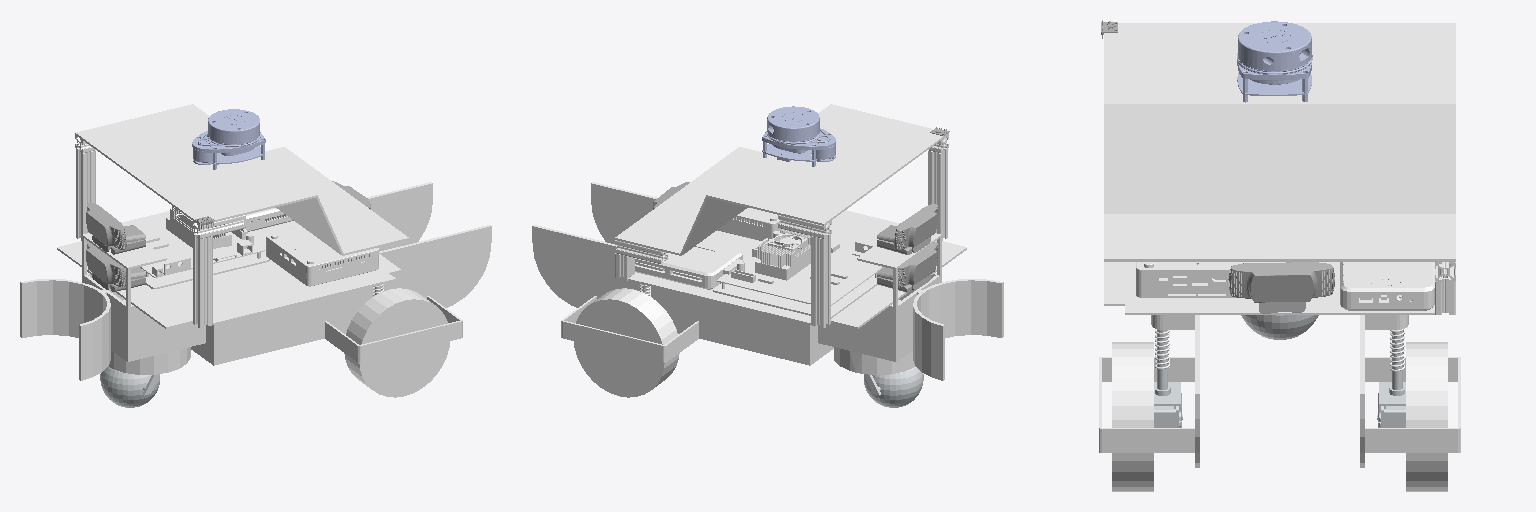
--- Facts derived from the render (not from the file) ---
The picture shows the robot from 3 angles, left to right: view 1: azimuth 30°, elevation 25°; view 2: azimuth 150°, elevation 25°; view 3: azimuth 270°, elevation 25°; orthographic projection.
Model cheetos with 17 links and 16 joints (3 continuous, 4 prismatic, 9 fixed), rooted at dummy, posed all joints at 0.
Links seen in each view (by area): view 1: body, RightWheel, Lidar, CamRear_Up, Sphere, CamRear; view 2: body, LeftWheel, Lidar, CamRear_Up, Sphere, CamRear; view 3: body, Lidar, LeftWheel, RightWheel, CamLow, Sphere, LeftMotor, RightMotor.
Boxes of the visible links, box(x1,y1,x2,y2) form: body: box(20, 104, 491, 380); RightWheel: box(344, 288, 449, 397); Lidar: box(192, 109, 265, 169); CamRear_Up: box(86, 203, 145, 254); Sphere: box(100, 366, 159, 407); CamRear: box(86, 241, 145, 291); body: box(532, 104, 1003, 380); LeftWheel: box(574, 288, 679, 397); Lidar: box(762, 106, 835, 166); CamRear_Up: box(877, 204, 937, 254); Sphere: box(864, 367, 923, 407); CamRear: box(877, 242, 937, 292); body: box(1099, 23, 1460, 467); Lidar: box(1237, 21, 1312, 102); LeftWheel: box(1406, 342, 1447, 491); RightWheel: box(1112, 342, 1153, 491); CamLow: box(1228, 262, 1334, 313); Sphere: box(1241, 315, 1318, 339); LeftMotor: box(1377, 382, 1405, 427); RightMotor: box(1154, 382, 1182, 427).
Size in the robot's own frame: 0.628 by 0.34 by 0.3825 metres.
Meshes: 13 distinct files referenced, 12 mesh visuals loaded (12 binary STL); not drawn: 1 (reference not matched to a file when rendering).

The robot description file, URDF, robot "cheetos":
<?xml version="1.0" encoding="utf-8"?>
<!-- This URDF was automatically created by SolidWorks to URDF Exporter! Originally created by Stephen Brawner ([email redacted])
     Commit Version: 1.5.1-0-g916b5db  Build Version: 1.5.7152.31018
     For more information, please see http://wiki.ros.org/sw_urdf_exporter -->
<robot
  name="cheetos">
  <link
    name="body">
    <inertial>
      <origin
        xyz="-0.131665588733977 0.00265396784555805 0.166170951769268"
        rpy="0 0 0" />
      <mass
        value="2.3" />
      <inertia
        ixx="0.0159559051940881"
        ixy="-7.18469676817871E-07"
        ixz="0.00189725904228338"
        iyy="0.0429827313478047"
        iyz="-5.74968905705857E-08"
        izz="0.0546231565087513" />
    </inertial>
    <visual>
      <origin
        xyz="0 0 0"
        rpy="0 0 0" />
      <geometry>
        <mesh
          filename="package://cheetos_description/meshes/body.STL" />
      </geometry>
      <material
        name="">
        <color
          rgba="1 1 1 1" />
      </material>
    </visual>
    <collision>
      <origin
        xyz="0 0 0"
        rpy="0 0 0" />
      <geometry>
        <mesh
          filename="package://cheetos_description/meshes/body.STL" />
      </geometry>
    </collision>
  </link>
<link name="dummy"/>

  <joint name="base_joint" type="fixed">
    <parent link="dummy"/>
    <child link="body" />
  </joint>
  <link
    name="LeftSuspension">
    <inertial>
      <origin
        xyz="0.0012247 -4.7186E-05 -0.0072077"
        rpy="0 0 0" />
      <mass
        value="0.55433" />
      <inertia
        ixx="8.6239E-05"
        ixy="-1.5645E-06"
        ixz="2.9641E-08"
        iyy="0.00012163"
        iyz="-1.6485E-07"
        izz="0.00015669" />
    </inertial>
    <visual>
      <origin
        xyz="0 0 0"
        rpy="0 0 0" />
      <geometry>
        <mesh
          filename="package://cheetos_description/meshes/LeftSuspension.STL" />
      </geometry>
      <material
        name="">
        <color
          rgba="0.89804 0.91765 0.92941 1" />
      </material>
    </visual>
    <collision>
      <origin
        xyz="0 0 0"
        rpy="0 0 0" />
      <geometry>
        <mesh
          filename="package://cheetos_description/meshes/LeftSuspension.STL" />
      </geometry>
    </collision>
  </link>
  <joint
    name="LeftSuspension"
    type="prismatic">
    <origin
      xyz="0.0219999999999989 0.110000000000005 0.09029"
      rpy="0 0 0" />
    <parent
      link="body" />
    <child
      link="LeftSuspension" />
    <axis
      xyz="0 0 1" />
    <limit
      lower="-0.02"
      upper="0"
      effort="100"
      velocity="0.01" />
  </joint>
  <link
    name="LeftMotor">
    <inertial>
      <origin
        xyz="0.0012247 -4.7186E-05 -0.0072077"
        rpy="0 0 0" />
      <mass
        value="0.55433" />
      <inertia
        ixx="8.6239E-05"
        ixy="-1.5645E-06"
        ixz="2.9641E-08"
        iyy="0.00012163"
        iyz="-1.6485E-07"
        izz="0.00015669" />
    </inertial>
    <visual>
      <origin
        xyz="0 0 0"
        rpy="0 0 0" />
      <geometry>
        <mesh
          filename="package://cheetos_description/meshes/LeftMotor.STL" />
      </geometry>
      <material
        name="">
        <color
          rgba="0.89804 0.91765 0.92941 1" />
      </material>
    </visual>
    <collision>
      <origin
        xyz="0 0 0"
        rpy="0 0 0" />
      <geometry>
        <mesh
          filename="package://cheetos_description/meshes/LeftMotor.STL" />
      </geometry>
    </collision>
  </link>
  <joint
    name="LeftMotor"
    type="fixed">
    <origin
      xyz="0 0 -0.0245"
      rpy="0 0 0" />
    <parent
      link="LeftSuspension" />
    <child
      link="LeftMotor" />
    <axis
      xyz="0 0 0" />
  </joint>
  <link
    name="LeftWheel">
    <inertial>
      <origin
        xyz="-8.3267E-17 -2.9698E-15 3.4694E-18"
        rpy="0 0 0" />
      <mass
        value="0.39667" />
      <inertia
        ixx="0.00059162"
        ixy="8.7084E-22"
        ixz="-2.3396E-36"
        iyy="0.0011235"
        iyz="3.3722E-36"
        izz="0.00059162" />
    </inertial>
    <visual>
      <origin
        xyz="0 0 0"
        rpy="1.5708 0 0" />
      <geometry>
               <cylinder length="0.04" radius="0.07"/>
      </geometry>
      <material
        name="">
        <color
          rgba="1 1 1 1" />
      </material>
    </visual>
    <collision>
      <origin
        xyz="0 0 0"
        rpy="1.5708 0 0" />
      <geometry>
        <cylinder length="0.04" radius="0.07"/>
      </geometry>
    </collision>
  </link>
  <joint
    name="LeftWheel"
    type="continuous">
    <origin
      xyz="0.013 0.02775 -0.011787"
      rpy="0 0 0" />
    <parent
      link="LeftMotor" />
    <child
      link="LeftWheel" />
    <axis
      xyz="0 1 0" />
    <limit
      effort="3.1"
      velocity="7" />
  </joint>
  <link
    name="RightSuspension">
    <inertial>
      <origin
        xyz="0.0012247 4.7186E-05 -0.0072492"
        rpy="0 0 0" />
      <mass
        value="0.55433" />
      <inertia
        ixx="8.6239E-05"
        ixy="1.5645E-06"
        ixz="-2.9641E-08"
        iyy="0.00012163"
        iyz="-1.6485E-07"
        izz="0.00015669" />
    </inertial>
    <visual>
      <origin
        xyz="0 0 0"
        rpy="0 0 0" />
      <geometry>
        <mesh
          filename="package://cheetos_description/meshes/RightSuspension.STL" />
      </geometry>
      <material
        name="">
        <color
          rgba="0.89804 0.91765 0.92941 1" />
      </material>
    </visual>
    <collision>
      <origin
        xyz="0 0 0"
        rpy="0 0 0" />
      <geometry>
        <mesh
          filename="package://cheetos_description/meshes/RightSuspension.STL" />
      </geometry>
    </collision>
  </link>
  <joint
    name="RightSuspension"
    type="prismatic">
    <origin
      xyz="0.022 -0.11 0.09029"
      rpy="0 0 0" />
    <parent
      link="body" />
    <child
      link="RightSuspension" />
    <axis
      xyz="0 0 1" />
    <limit
      lower="-0.02"
      upper="0"
      effort="100"
      velocity="0.01" />
  </joint>
  <link
    name="RightMotor">
    <inertial>
      <origin
        xyz="0.0012247 4.7186E-05 -0.0072492"
        rpy="0 0 0" />
      <mass
        value="0.55433" />
      <inertia
        ixx="8.6239E-05"
        ixy="1.5645E-06"
        ixz="-2.9641E-08"
        iyy="0.00012163"
        iyz="-1.6485E-07"
        izz="0.00015669" />
    </inertial>
    <visual>
      <origin
        xyz="0 0 0"
        rpy="0 0 0" />
      <geometry>
        <mesh
          filename="package://cheetos_description/meshes/RightMotor.STL" />
      </geometry>
      <material
        name="">
        <color
          rgba="0.89804 0.91765 0.92941 1" />
      </material>
    </visual>
    <collision>
      <origin
        xyz="0 0 0"
        rpy="0 0 0" />
      <geometry>
        <mesh
          filename="package://cheetos_description/meshes/RightMotor.STL" />
      </geometry>
    </collision>
  </link>
  <joint
    name="RightMotor"
    type="fixed">
    <origin
      xyz="0 0 -0.0245"
      rpy="0 0 0" />
    <parent
      link="RightSuspension" />
    <child
      link="RightMotor" />
    <axis
      xyz="0 0 0" />
  </joint>
  <link
    name="RightWheel">
    <inertial>
      <origin
        xyz="-1.3878E-16 -2.8311E-15 3.4694E-18"
        rpy="0 0 0" />
      <mass
        value="0.39667" />
      <inertia
        ixx="0.00059162"
        ixy="-1.8658E-18"
        ixz="-8.9798E-20"
        iyy="0.0011235"
        iyz="-4.1551E-21"
        izz="0.00059162" />
    </inertial>
    <visual>
      <origin
        xyz="0 0 0"
        rpy="1.5708 0 0" />
      <geometry>
               <cylinder length="0.04" radius="0.07"/>
      </geometry>
      <material
        name="">
        <color
          rgba="1 1 1 1" />
      </material>
    </visual>
    <collision>
      <origin
        xyz="0 0 0"
        rpy="1.5708 0 0" />
      <geometry>
        <cylinder length="0.04" radius="0.07"/>
      </geometry>
    </collision>
  </link>
  <joint
    name="RightWheel"
    type="continuous">
    <origin
      xyz="0.0129999999999996 -0.0277499999999998 -0.0117849999999997"
      rpy="0 0 0" />
    <parent
      link="RightMotor" />
    <child
      link="RightWheel" />
    <axis
      xyz="0 1 0" />
    <limit
      effort="3.1"
      velocity="7" />
  </joint>
  <link
    name="RearSuspension">
    <inertial>
      <origin
        xyz="-0.010041 6.4226E-18 -0.02367"
        rpy="0 0 0" />
      <mass
        value="0.34774" />
      <inertia
        ixx="0.00056998"
        ixy="5.7272E-20"
        ixz="-6.9341E-05"
        iyy="0.0001687"
        iyz="-1.1998E-19"
        izz="0.00048148" />
    </inertial>
    <visual>
      <origin
        xyz="0 0 0"
        rpy="0 0 0" />
      <geometry>
        <mesh
          filename="package://cheetos_description/meshes/RearSuspension.STL" />
      </geometry>
      <material
        name="">
        <color
          rgba="0.89804 0.91765 0.92941 1" />
      </material>
    </visual>
    <collision>
      <origin
        xyz="0 0 0"
        rpy="0 0 0" />
      <geometry>
        <mesh
          filename="package://cheetos_description/meshes/RearSuspension.STL" />
      </geometry>
    </collision>
  </link>
  <joint
    name="RearSuspension"
    type="prismatic">
    <origin
      xyz="-0.27 0 0.08"
      rpy="0 0 0" />
    <parent
      link="body" />
    <child
      link="RearSuspension" />
    <axis
      xyz="0 0 1" />
    <limit
      lower="-0.04"
      upper="0"
      effort="100"
      velocity="0.01" />
  </joint>
  <link
    name="CasterJoint">
    <inertial>
      <origin
        xyz="-0.010041 6.4226E-18 -0.02367"
        rpy="0 0 0" />
      <mass
        value="0.34774" />
      <inertia
        ixx="0.00056998"
        ixy="5.7272E-20"
        ixz="-6.9341E-05"
        iyy="0.0001687"
        iyz="-1.1998E-19"
        izz="0.00048148" />
    </inertial>
    <visual>
      <origin
        xyz="0 0 0"
        rpy="0 0 0" />
      <geometry>
        <mesh
          filename="package://cheetos_description/meshes/CasterJoint.STL" />
      </geometry>
      <material
        name="">
        <color
          rgba="0.89804 0.91765 0.92941 1" />
      </material>
    </visual>
    <collision>
      <origin
        xyz="0 0 0"
        rpy="0 0 0" />
      <geometry>
        <mesh
          filename="package://cheetos_description/meshes/CasterJoint.STL" />
      </geometry>
    </collision>
  </link>
  <joint
    name="CasterJoint"
    type="prismatic">
    <origin
      xyz="0 0 -0.0075"
      rpy="0 0 0" />
    <parent
      link="RearSuspension" />
    <child
      link="CasterJoint" />
    <axis
      xyz="0 0 1" />
    <limit
      lower="-0.04"
      upper="0"
      effort="1000"
      velocity="1000" />
  </joint>
  <link
    name="Sphere">
    <inertial>
      <origin
        xyz="0 -2.4931E-20 6.9389E-18"
        rpy="0 0 0" />
      <mass
        value="0.358335" />
      <inertia
        ixx="0.00045942"
        ixy="1.0361E-38"
        ixz="-2.8818E-40"
        iyy="0.00046321"
        iyz="0"
        izz="0.00045942" />
    </inertial>
    <visual>
      <origin
        xyz="0 0 0"
        rpy="0 0 0" />
      <geometry>
        <sphere radius="0.04"/>
      </geometry>
      <material
        name="">
        <color
          rgba="0.89804 0.91765 0.92941 1" />
      </material>
    </visual>
    <collision>
      <origin
        xyz="0 0 0"
        rpy="0 0 0" />
      <geometry>
          <sphere radius="0.04"/>
      </geometry>
    </collision>
  </link>
  <joint
    name="Sphere"
    type="continuous">
    <origin
      xyz="-0.02372975512794 0 -0.0485"
      rpy="0 0 0" />
    <parent
      link="CasterJoint" />
    <child
      link="Sphere" />
    <axis
      xyz="0 1 0" />
  </joint>
  <link
    name="Lidar">
    <inertial>
      <origin
        xyz="-0.0106584194573059 0.00149536433385656 -0.0184322088779122"
        rpy="0 0 0" />
      <mass
        value="0.0730845804596596" />
      <inertia
        ixx="1.95855192972885E-05"
        ixy="-1.78553755169841E-07"
        ixz="4.28488283975004E-07"
        iyy="2.41203647877997E-05"
        iyz="-2.38491004481269E-09"
        izz="4.1418451413048E-05" />
    </inertial>
    <visual>
      <origin
        xyz="0 0 0"
        rpy="0 0 0" />
      <geometry>
        <mesh
          filename="package://cheetos_description/meshes/Ridar.STL" />
      </geometry>
      <material
        name="">
        <color
          rgba="0.792156862745098 0.819607843137255 0.933333333333333 1" />
      </material>
    </visual>
    <collision>
      <origin
        xyz="0 0 0"
        rpy="0 0 0" />
      <geometry>
        <mesh
          filename="package://cheetos_description/meshes/Ridar.STL" />
      </geometry>
    </collision>
  </link>
  <joint
    name="Lidar"
    type="fixed">
    <origin
      xyz="-0.1392 -0.0060445 0.35617"
      rpy="0 0 0" />
    <parent
      link="body" />
    <child
      link="Lidar" />
    <axis
      xyz="0 0 0" />
  </joint>
  <link
    name="imu_link">
    <inertial>
      <origin
        xyz="-5.80684691974323E-05 -0.000929499747983537 0.000334718190330485"
        rpy="0 0 0" />
      <mass
        value="0.00100170070350826" />
      <inertia
        ixx="1.69531813597037E-08"
        ixy="-1.30603108853935E-11"
        ixz="-3.36807508028114E-18"
        iyy="3.03936181819941E-08"
        iyz="-6.24614435388015E-14"
        izz="4.63286907007238E-08" />
    </inertial>
    <visual>
      <origin
        xyz="0 0 0"
        rpy="0 0 0" />
      <geometry>
        <mesh
          filename="package://cheetos_description/meshes/imu_link.STL" />
      </geometry>
      <material
        name="">
        <color
          rgba="0.752941176470588 0.752941176470588 0.752941176470588 1" />
      </material>
    </visual>
    <collision>
      <origin
        xyz="0 0 0"
        rpy="0 0 0" />
      <geometry>
        <mesh
          filename="package://cheetos_description/meshes/imu_link.STL" />
      </geometry>
    </collision>
  </link>
  <joint
    name="IMU"
    type="fixed">
    <origin
      xyz="-0.27194 -0.15957 0.313"
      rpy="0 0 0" />
    <parent
      link="body" />
    <child
      link="imu_link" />
    <axis
      xyz="0 0 0" />
  </joint>
  <link
    name="CamUp">
    <inertial>
      <origin
        xyz="-0.0240608797344701 -0.000831103636230159 -0.0086820542686866"
        rpy="0 0 0" />
      <mass
        value="0.0814567527016656" />
      <inertia
        ixx="2.93819154283946E-05"
        ixy="5.3332956002618E-07"
        ixz="-2.59288616701654E-07"
        iyy="1.39017043298223E-05"
        iyz="-9.705250623736E-09"
        izz="3.66776098846521E-05" />
    </inertial>
    <visual>
      <origin
        xyz="0 0 0"
        rpy="0 0 0" />
      <geometry>
        <mesh
          filename="package://cheetos_description/meshes/CamUp.STL" />
      </geometry>
      <material
        name="">
        <color
          rgba="0.752941176470588 0.752941176470588 0.752941176470588 1" />
      </material>
    </visual>
    <collision>
      <origin
        xyz="0 0 0"
        rpy="0 0 0" />
      <geometry>
        <mesh
          filename="package://cheetos_description/meshes/CamUp.STL" />
      </geometry>
    </collision>
  </link>
  <joint
    name="CamUp"
    type="fixed">
    <origin
      xyz="0.056625 0.0021836 0.25151"
      rpy="0 0 0" />
    <parent
      link="body" />
    <child
      link="CamUp" />
    <axis
      xyz="0 0 0" />
  </joint>
  <link
    name="CamLow">
    <inertial>
      <origin
        xyz="-0.0240608775291059 -0.000831104433010251 -0.00868205335954153"
        rpy="0 0 0" />
      <mass
        value="0.0814567470324938" />
      <inertia
        ixx="2.9381914414346E-05"
        ixy="5.33327967811365E-07"
        ixz="-2.592877551454E-07"
        iyy="1.39017011370152E-05"
        iyz="-9.70568132352121E-09"
        izz="3.66776060324368E-05" />
    </inertial>
    <visual>
      <origin
        xyz="0 0 0"
        rpy="0 0 0" />
      <geometry>
        <mesh
          filename="package://cheetos_description/meshes/CamLow.STL" />
      </geometry>
      <material
        name="">
        <color
          rgba="0.752941176470588 0.752941176470588 0.752941176470588 1" />
      </material>
    </visual>
    <collision>
      <origin
        xyz="0 0 0"
        rpy="0 0 0" />
      <geometry>
        <mesh
          filename="package://cheetos_description/meshes/CamLow.STL" />
      </geometry>
    </collision>
  </link>
  <joint
    name="CamLow"
    type="fixed">
    <origin
      xyz="0.056625 0.0021836 0.19651"
      rpy="0 0 0" />
    <parent
      link="body" />
    <child
      link="CamLow" />
    <axis
      xyz="0 0 0" />
  </joint>
  <link
    name="CamRear">
    <inertial>
      <origin
        xyz="-0.0240609788733489 0.000828264941201923 -0.00868205846297625"
        rpy="0 0 0" />
      <mass
        value="0.0814567724559934" />
      <inertia
        ixx="2.93817636646625E-05"
        ixy="-5.35534285119911E-07"
        ixz="-2.59340623789365E-07"
        iyy="1.39018545991374E-05"
        iyz="8.17789182622398E-09"
        izz="3.66776079026737E-05" />
    </inertial>
    <visual>
      <origin
        xyz="0 0 0"
        rpy="0 0 0" />
      <geometry>
        <mesh
          filename="package://cheetos_description/meshes/CamRear.STL" />
      </geometry>
      <material
        name="">
        <color
          rgba="0.752941176470588 0.752941176470588 0.752941176470588 1" />
      </material>
    </visual>
    <collision>
      <origin
        xyz="0 0 0"
        rpy="0 0 0" />
      <geometry>
        <mesh
          filename="package://cheetos_description/meshes/CamRear.STL" />
      </geometry>
    </collision>
  </link>
  <joint
    name="CamRear"
    type="fixed">
    <origin
      xyz="-0.344 0.0021836 0.19651"
      rpy="0 0 -3.1416" />
    <parent
      link="body" />
    <child
      link="CamRear" />
    <axis
      xyz="0 0 0" />
  </joint>
  <link
    name="CamRear_Up">
    <inertial>
      <origin
        xyz="0.0240609810197435 -0.000828265854513086 -0.00868205937212058"
        rpy="0 0 0" />
      <mass
        value="0.081456778125166" />
      <inertia
        ixx="2.93817648508048E-05"
        ixy="-5.35532606603709E-07"
        ixz="2.59341454118007E-07"
        iyy="1.39018575661722E-05"
        iyz="-8.17836672748321E-09"
        izz="3.66776117012104E-05" />
    </inertial>
    <visual>
      <origin
        xyz="0 0 0"
        rpy="0 0 0" />
      <geometry>
        <mesh
          filename="package://cheetos_description/meshes/CamRear_Up.STL" />
      </geometry>
      <material
        name="">
        <color
          rgba="0.752941176470588 0.752941176470588 0.752941176470588 1" />
      </material>
    </visual>
    <collision>
      <origin
        xyz="0 0 0"
        rpy="0 0 0" />
      <geometry>
        <mesh
          filename="package://cheetos_description/meshes/CamRear_Up.STL" />
      </geometry>
    </collision>
  </link>
  <joint
    name="CamRear_Up"
    type="fixed">
    <origin
      xyz="-0.344 0.0021836 0.25151"
      rpy="0 0 0" />
    <parent
      link="body" />
    <child
      link="CamRear_Up" />
    <axis
      xyz="0 0 0" />
  </joint>
<transmission name="front_wheel_left_transmission">
    <type>transmission_interface/SimpleTransmission</type>
    <joint name="LeftWheel">
      <hardwareInterface>hardware_interface/EffortJointInterface</hardwareInterface>
    </joint>
    <actuator name="Front_Left_Wheel_Motor">
      <hardwareInterface>hardware_interface/EffortJointInterface</hardwareInterface>
      <mechanicalReduction>1</mechanicalReduction>
    </actuator>
  </transmission>
  <transmission name="front_wheel_right_transmission">
    <type>transmission_interface/SimpleTransmission</type>
    <joint name="RightWheel">
      <hardwareInterface>hardware_interface/EffortJointInterface</hardwareInterface>
    </joint>
    <actuator name="Front_Right_Wheel_Motor">
      <hardwareInterface>hardware_interface/EffortJointInterface</hardwareInterface>
      <mechanicalReduction>1</mechanicalReduction>
    </actuator>
  </transmission>
   <transmission name="front_suspension_right_transmission">
    <type>transmission_interface/SimpleTransmission</type>
    <joint name="RightSuspension">
      <hardwareInterface>hardware_interface/EffortJointInterface</hardwareInterface>
    </joint>
    <actuator name="front_Right_suspension_Motor">
      <hardwareInterface>hardware_interface/EffortJointInterface</hardwareInterface>
      <mechanicalReduction>1</mechanicalReduction>
    </actuator>
  </transmission>
  <transmission name="front_suspension_left_transmission">
    <type>transmission_interface/SimpleTransmission</type>
    <joint name="LeftSuspension">
      <hardwareInterface>hardware_interface/EffortJointInterface</hardwareInterface>
    </joint>
    <actuator name="front_Left_suspension_Motor">
      <hardwareInterface>hardware_interface/EffortJointInterface</hardwareInterface>
      <mechanicalReduction>1</mechanicalReduction>
    </actuator>
  </transmission>
  <transmission name="rear_suspension_transmission">
    <type>transmission_interface/SimpleTransmission</type>
    <joint name="RearSuspension">
      <hardwareInterface>hardware_interface/EffortJointInterface</hardwareInterface>
    </joint>
    <actuator name="rear_suspension_Motor">
      <hardwareInterface>hardware_interface/EffortJointInterface</hardwareInterface>
      <mechanicalReduction>1</mechanicalReduction>
    </actuator>
  </transmission>
<gazebo>
  <plugin name="gazebo_ros_control" filename="libgazebo_ros_control.so">
    <robotNamespace>/cheetos</robotNamespace>
    <robotSimType>gazebo_ros_control/DefaultRobotHWSim</robotSimType>
  </plugin>
</gazebo>

<gazebo reference="body">
  <material>Gazebo/Orange</material>
</gazebo>

<gazebo reference="LeftSuspension">
  <material>Gazebo/White</material>
</gazebo>

<gazebo reference="LeftMotor">
  <material>Gazebo/Black</material>
</gazebo>

<gazebo reference="LeftWheel">
  <mu1>1.0</mu1>
  <mu2>1.0</mu2>
  <material>Gazebo/Grey</material>
</gazebo>

<gazebo reference="RightSuspension">
  <material>Gazebo/White</material>
</gazebo>

<gazebo reference="RightMotor">
  <material>Gazebo/Black</material>
</gazebo>

<gazebo reference="RightWheel">
  <mu1>1.0</mu1>
  <mu2>1.0</mu2>
  <material>Gazebo/Grey</material>
</gazebo>

<gazebo reference="Sphere">
  <mu1>0.5</mu1>
  <mu2>0.5</mu2>
  <material>Gazebo/Grey</material>
</gazebo>

<gazebo reference="body">
  <mu1>0.0</mu1>
  <mu2>0.0</mu2>
</gazebo>

<gazebo reference="imu_link">
  <material>Gazebo/SkyBlue</material>
</gazebo>

<gazebo reference="CamUp">
  <material>Gazebo/Grey</material>
  <sensor type="depth" name="realsense_R200">
    <always_on>true</always_on>
    <visualize>false</visualize>
    <camera>
        <pose>0 0 0 0 0 0</pose>
        <horizontal_fov>1.3439</horizontal_fov>
        <image>
            <width>1920</width>
            <height>1080</height>
            <format>R8G8B8</format>
        </image>
        <depth_camera></depth_camera>
        <clip>
            <near>0.03</near>
            <far>100</far>
        </clip>
    </camera>
    <plugin name="camera_controller" filename="libgazebo_ros_openni_kinect.so">
      <baseline>0.2</baseline>
      <alwaysOn>true</alwaysOn>
      <updateRate>30.0</updateRate>
      <cameraName>upper_camera</cameraName>
      <frameName>upper_camera_link</frameName>
      <imageTopicName>rgb/image_raw</imageTopicName>
      <depthImageTopicName>depth/image_raw</depthImageTopicName>
      <pointCloudTopicName>depth/points</pointCloudTopicName>
      <cameraInfoTopicName>rgb/camera_info</cameraInfoTopicName>
      <depthImageCameraInfoTopicName>depth/camera_info</depthImageCameraInfoTopicName>
      <pointCloudCutoff>0.4</pointCloudCutoff>
          <hackBaseline>0.07</hackBaseline>
          <distortionK1>0.0</distortionK1>
          <distortionK2>0.0</distortionK2>
          <distortionK3>0.0</distortionK3>
          <distortionT1>0.0</distortionT1>
          <distortionT2>0.0</distortionT2>
      <CxPrime>0.0</CxPrime>
      <Cx>0.0</Cx>
      <Cy>0.0</Cy>
      <focalLength>0</focalLength>
      <hackBaseline>0</hackBaseline>
    </plugin>
  </sensor>
</gazebo>

<gazebo reference="CamLow">
  <material>Gazebo/Grey</material>
  <sensor type="depth" name="realsense_R200">
    <always_on>true</always_on>
    <visualize>false</visualize>
    <camera>
        <pose>0 0 0 0 1 0</pose>
        <horizontal_fov>1.3439</horizontal_fov>
        <image>
            <width>1920</width>
            <height>1080</height>
            <format>R8G8B8</format>
        </image>
        <depth_camera></depth_camera>
        <clip>
            <near>0.03</near>
            <far>100</far>
        </clip>
    </camera>
    <plugin name="camera_controller" filename="libgazebo_ros_openni_kinect.so">
      <baseline>0.2</baseline>
      <alwaysOn>true</alwaysOn>
      <updateRate>30.0</updateRate>
      <cameraName>lower_camera</cameraName>
      <frameName>lower_camera_link</frameName>
      <imageTopicName>rgb/image_raw</imageTopicName>
      <depthImageTopicName>depth/image_raw</depthImageTopicName>
      <pointCloudTopicName>depth/points</pointCloudTopicName>
      <cameraInfoTopicName>rgb/camera_info</cameraInfoTopicName>
      <depthImageCameraInfoTopicName>depth/camera_info</depthImageCameraInfoTopicName>
      <pointCloudCutoff>0.4</pointCloudCutoff>
          <hackBaseline>0.07</hackBaseline>
          <distortionK1>0.0</distortionK1>
          <distortionK2>0.0</distortionK2>
          <distortionK3>0.0</distortionK3>
          <distortionT1>0.0</distortionT1>
          <distortionT2>0.0</distortionT2>
      <CxPrime>0.0</CxPrime>
      <Cx>0.0</Cx>
      <Cy>0.0</Cy>
      <focalLength>0</focalLength>
      <hackBaseline>0</hackBaseline>
    </plugin>
  </sensor>
</gazebo>

<gazebo reference="CamRear">
  <material>Gazebo/Grey</material>
  <sensor type="depth" name="realsense_R200">
    <always_on>true</always_on>
    <visualize>false</visualize>
    <camera>
        <pose>0 0 0 0 1 0</pose>
        <horizontal_fov>1.3439</horizontal_fov>
        <image>
            <width>1920</width>
            <height>1080</height>
            <format>R8G8B8</format>
        </image>
        <depth_camera></depth_camera>
        <clip>
            <near>0.03</near>
            <far>100</far>
        </clip>
    </camera>
    <plugin name="camera_controller" filename="libgazebo_ros_openni_kinect.so">
      <baseline>0.2</baseline>
      <alwaysOn>true</alwaysOn>
      <updateRate>30.0</updateRate>
      <cameraName>rear_camera</cameraName>
      <frameName>rear_camera_link</frameName>
      <imageTopicName>rgb/image_raw</imageTopicName>
      <depthImageTopicName>depth/image_raw</depthImageTopicName>
      <pointCloudTopicName>depth/points</pointCloudTopicName>
      <cameraInfoTopicName>rgb/camera_info</cameraInfoTopicName>
      <depthImageCameraInfoTopicName>depth/camera_info</depthImageCameraInfoTopicName>
      <pointCloudCutoff>0.4</pointCloudCutoff>
          <hackBaseline>0.07</hackBaseline>
          <distortionK1>0.0</distortionK1>
          <distortionK2>0.0</distortionK2>
          <distortionK3>0.0</distortionK3>
          <distortionT1>0.0</distortionT1>
          <distortionT2>0.0</distortionT2>
      <CxPrime>0.0</CxPrime>
      <Cx>0.0</Cx>
      <Cy>0.0</Cy>
      <focalLength>0</focalLength>
      <hackBaseline>0</hackBaseline>
    </plugin>
  </sensor>
</gazebo>

<gazebo reference="CamRear_Up">
  <material>Gazebo/Grey</material>
  <sensor type="depth" name="realsense_R200">
    <always_on>true</always_on>
    <visualize>false</visualize>
    <camera>
        <pose>0 0 0 0 0 3.1416</pose>
        <horizontal_fov>1.3439</horizontal_fov>
        <image>
            <width>1920</width>
            <height>1080</height>
            <format>R8G8B8</format>
        </image>
        <depth_camera></depth_camera>
        <clip>
            <near>0.03</near>
            <far>100</far>
        </clip>
    </camera>
    <plugin name="camera_controller" filename="libgazebo_ros_openni_kinect.so">
      <baseline>0.2</baseline>
      <alwaysOn>true</alwaysOn>
      <updateRate>30.0</updateRate>
      <cameraName>rear_up_camera</cameraName>
      <frameName>rear_up_camera_link</frameName>
      <imageTopicName>rgb/image_raw</imageTopicName>
      <depthImageTopicName>depth/image_raw</depthImageTopicName>
      <pointCloudTopicName>depth/points</pointCloudTopicName>
      <cameraInfoTopicName>rgb/camera_info</cameraInfoTopicName>
      <depthImageCameraInfoTopicName>depth/camera_info</depthImageCameraInfoTopicName>
      <pointCloudCutoff>0.4</pointCloudCutoff>
          <hackBaseline>0.07</hackBaseline>
          <distortionK1>0.0</distortionK1>
          <distortionK2>0.0</distortionK2>
          <distortionK3>0.0</distortionK3>
          <distortionT1>0.0</distortionT1>
          <distortionT2>0.0</distortionT2>
      <CxPrime>0.0</CxPrime>
      <Cx>0.0</Cx>
      <Cy>0.0</Cy>
      <focalLength>0</focalLength>
      <hackBaseline>0</hackBaseline>
    </plugin>
  </sensor>
</gazebo>

<gazebo reference="Lidar">
  <material>Gazebo/FlatBlack</material>
  <sensor type="ray" name="lds_lfcd_sensor">
    <pose>0 0 0 0 0 0</pose>
    <visualize>false</visualize>
    <update_rate>5</update_rate>
    <ray>
      <scan>
        <horizontal>
          <samples>360</samples>
          <resolution>1</resolution>
          <min_angle>0.0</min_angle>
          <max_angle>6.28319</max_angle>
        </horizontal>
      </scan>
      <range>
        <min>0.120</min>
        <max>3.5</max>
        <resolution>0.015</resolution>
      </range>
      <noise>
        <type>gaussian</type>
        <mean>0.0</mean>
        <stddev>0.01</stddev>
      </noise>
    </ray>
    <plugin name="gazebo_ros_lds_lfcd_controller" filename="libgazebo_ros_laser.so">
      <topicName>scan</topicName>
      <frameName>Lidar</frameName>
    </plugin>
  </sensor>
</gazebo>

<gazebo reference="imu_link">
    <sensor type="imu" name="imu">
      <always_on>true</always_on>
      <visualize>true</visualize>
    </sensor>
  </gazebo>

  <gazebo>
    <plugin name="imu_plugin" filename="libgazebo_ros_imu.so">
      <alwaysOn>true</alwaysOn>
      <bodyName>imu_link</bodyName>
      <frameName>imu_link</frameName>
      <topicName>imu_test</topicName>
      <serviceName>imu_service</serviceName>
      <gaussianNoise>0.01</gaussianNoise>
      <updateRate>200</updateRate>
      <imu>
        <noise>
          <type>gaussian</type>
          <rate>
            <mean>0.0</mean>
            <stddev>2e-4</stddev>
            <bias_mean>0.0000075</bias_mean>
            <bias_stddev>0.0000008</bias_stddev>
          </rate>
          <accel>
            <mean>0.0</mean>
            <stddev>1.7e-2</stddev>
            <bias_mean>0.1</bias_mean>
            <bias_stddev>0.001</bias_stddev>
          </accel>
        </noise>
      </imu>
    </plugin>
  </gazebo>
</robot>
